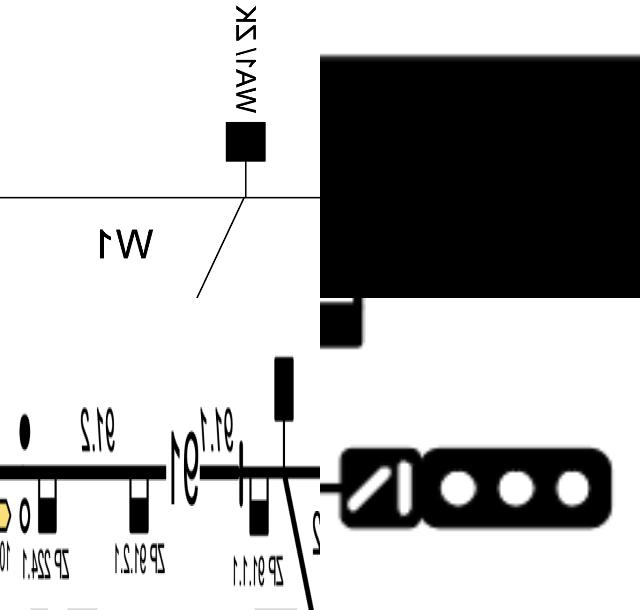radzaehler: (320, 40, 640, 298), (160, 424, 202, 521), (320, 298, 378, 358), (125, 452, 151, 543), (247, 455, 273, 540), (35, 456, 60, 543)
weiche: (224, 118, 268, 216), (271, 342, 298, 482)
